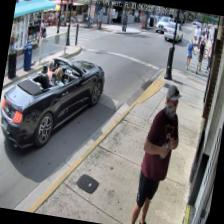person: (128, 82, 186, 224)
